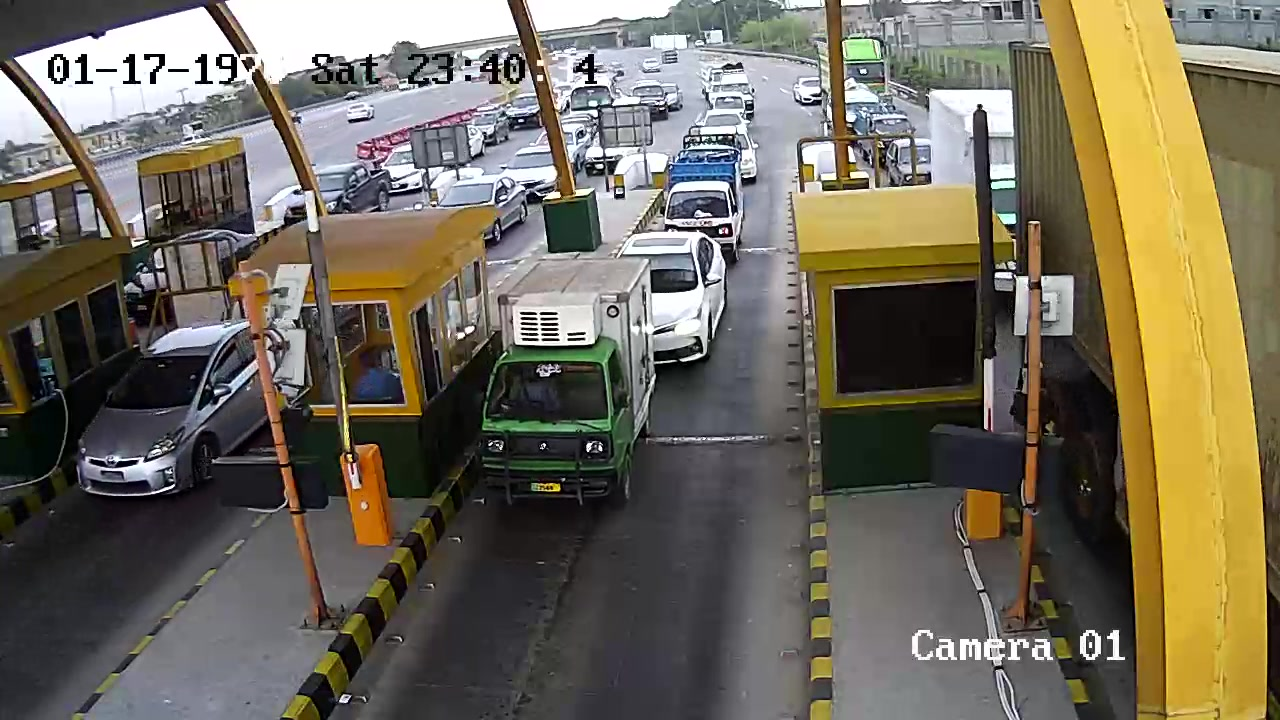F1: (467, 241, 666, 528)
